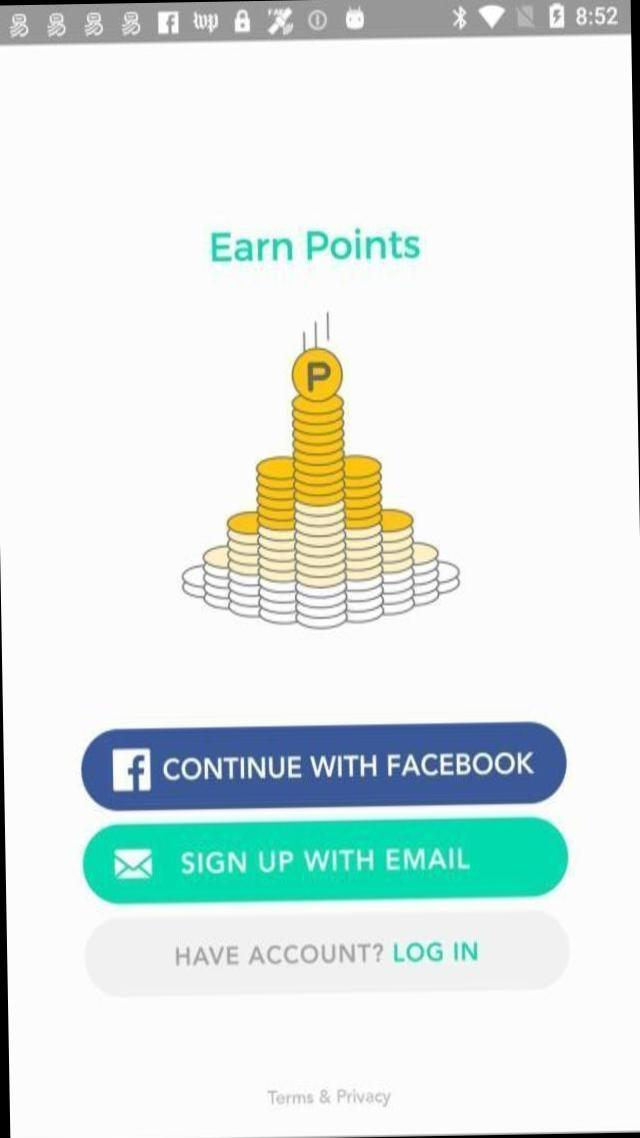Icon: (476, 1, 508, 32), (306, 5, 330, 35), (342, 0, 365, 30), (546, 4, 566, 34)
Image: (166, 308, 469, 637), (110, 749, 154, 797), (108, 848, 154, 878)
Text: (158, 924, 491, 978), (158, 741, 540, 785), (175, 838, 476, 883), (190, 218, 430, 269), (258, 1081, 402, 1115)
TextButton: (84, 900, 572, 1002), (79, 718, 568, 815), (81, 814, 571, 908)
